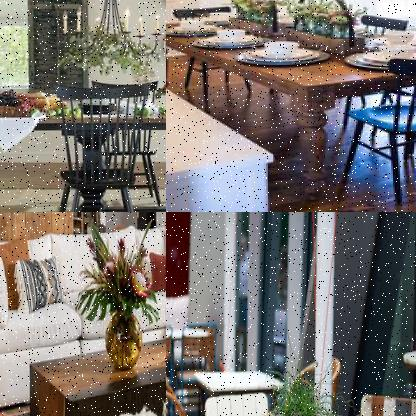table: (166, 6, 415, 208), (0, 95, 165, 211), (27, 328, 165, 415)
